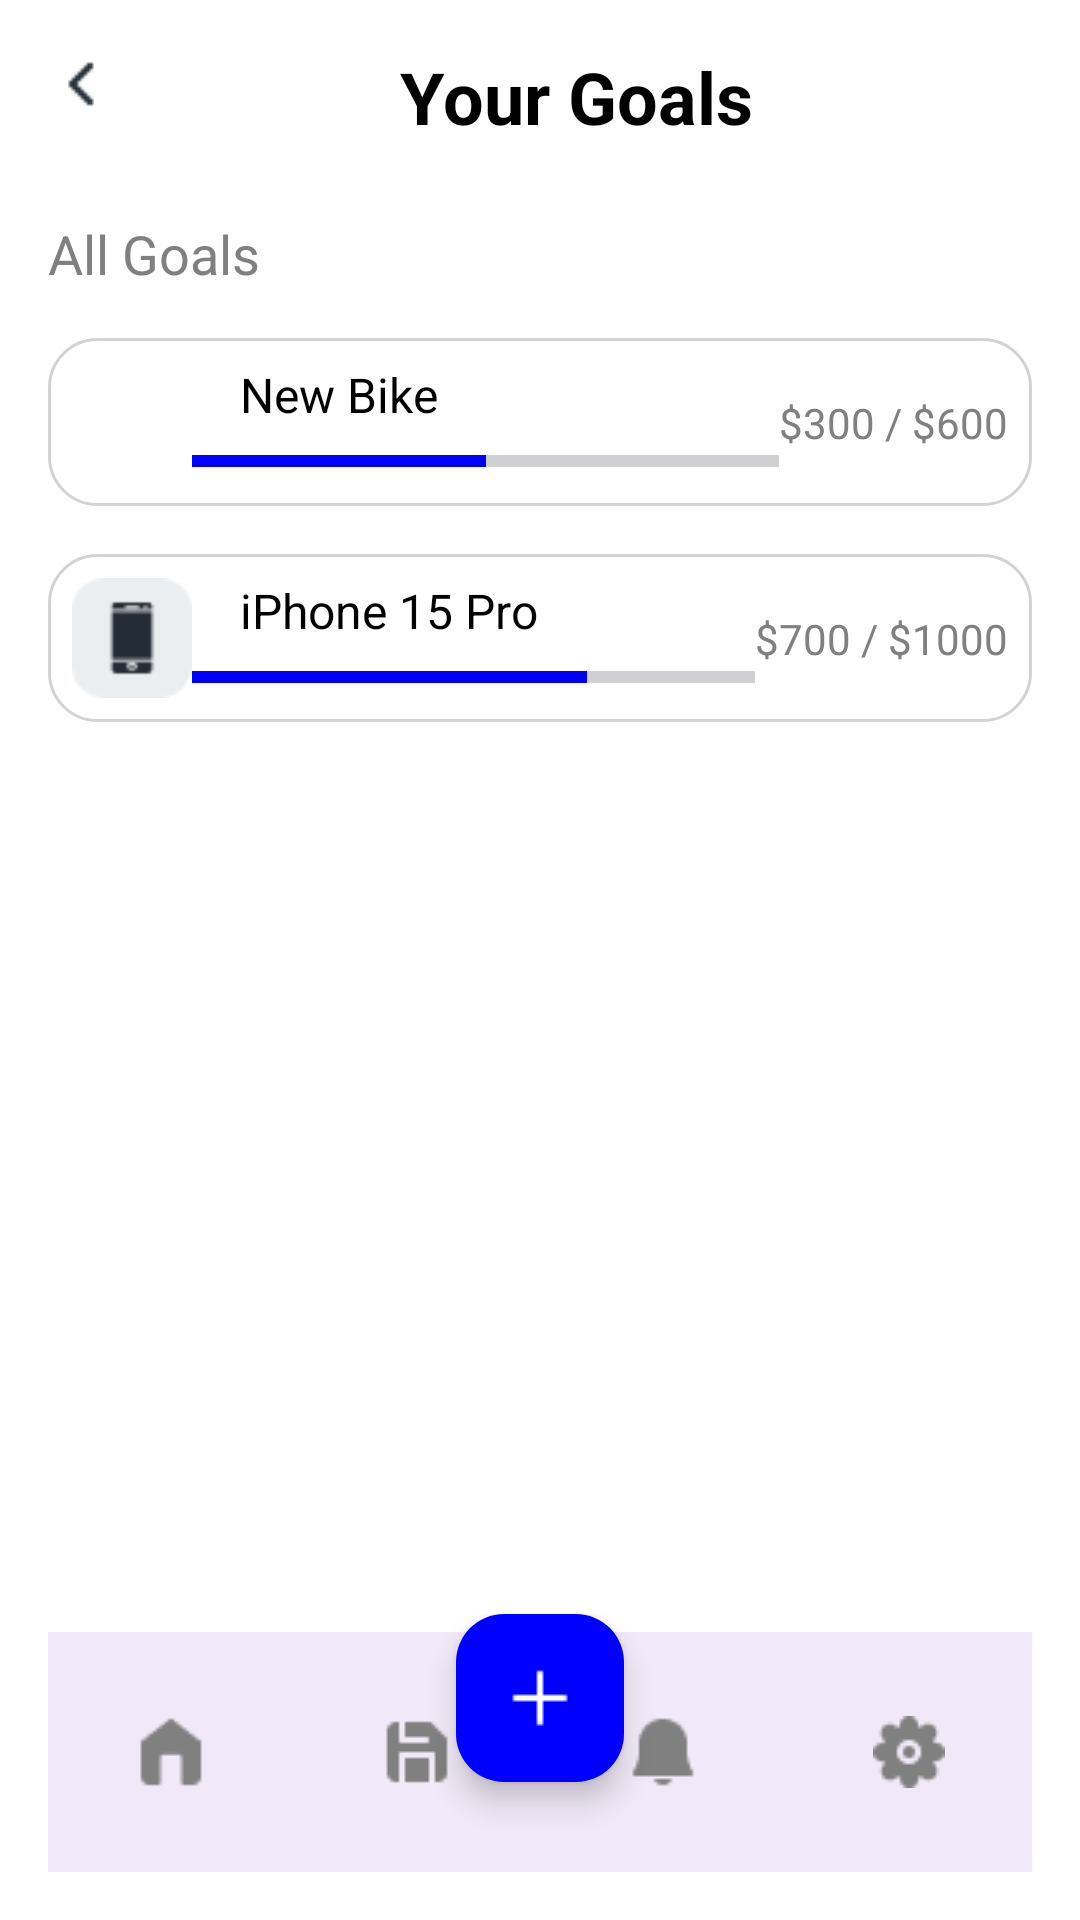

Icon click points for this 1080px×1920px phone screenshot, format (x,y):
Back: (81,84)
plus: (540,1698)
